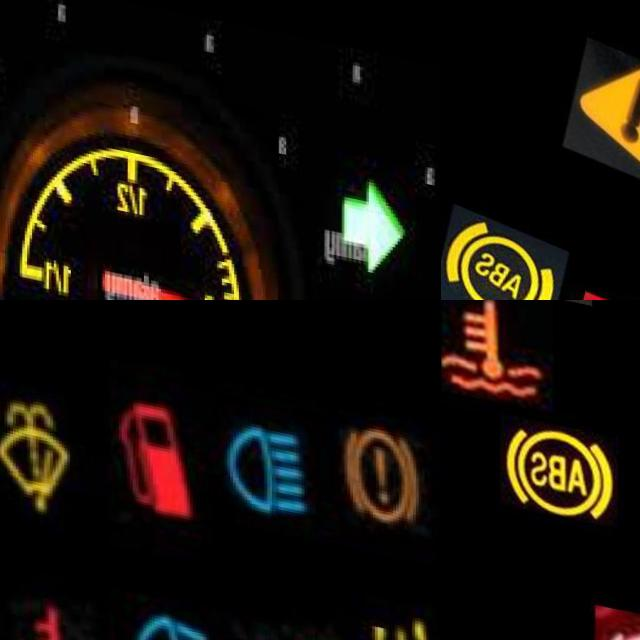Central Warning lamp: (562, 25, 640, 186)
Engine cooling system: (441, 300, 553, 408)
